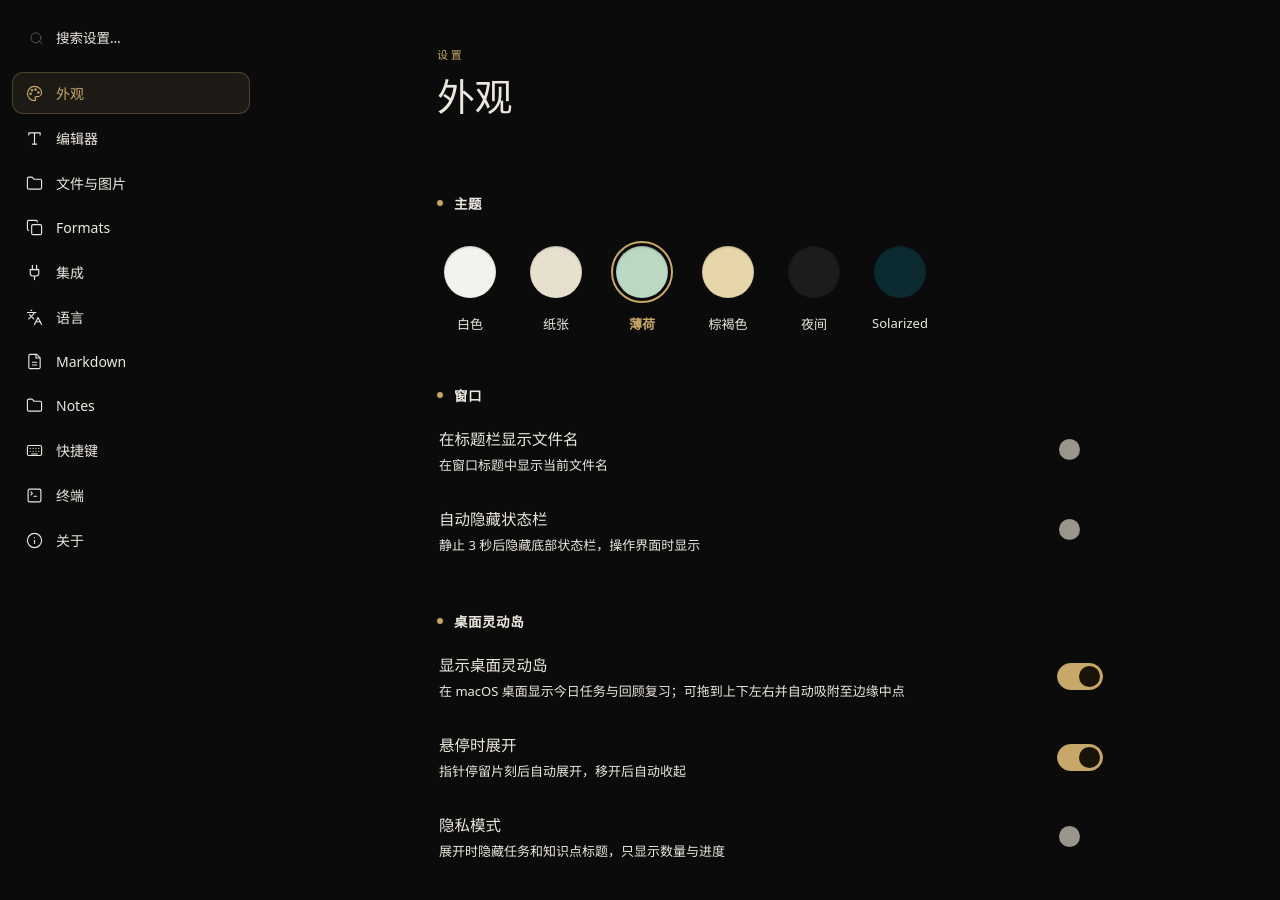
Test: AurisSettings window preferences › persists title, status bar, and focus dim controls
The width and height of the screenshot is (1280, 900).
Click the switch named "在标题栏显示文件名" at [1070, 450], box left=1059, top=439, right=1080, bottom=460
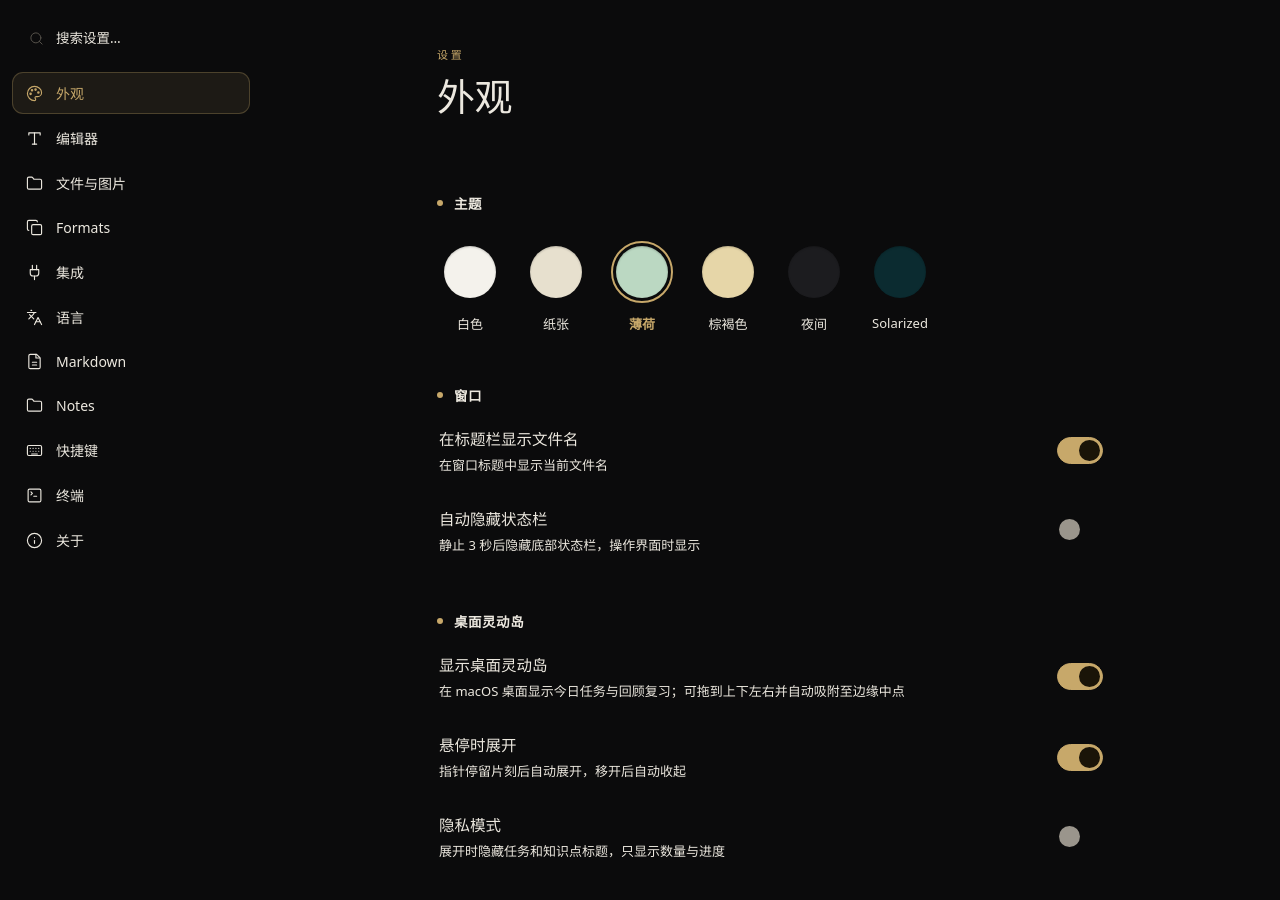
Click the switch named "自动隐藏状态栏" at [1070, 530], box left=1059, top=519, right=1080, bottom=540
(page scrolled)
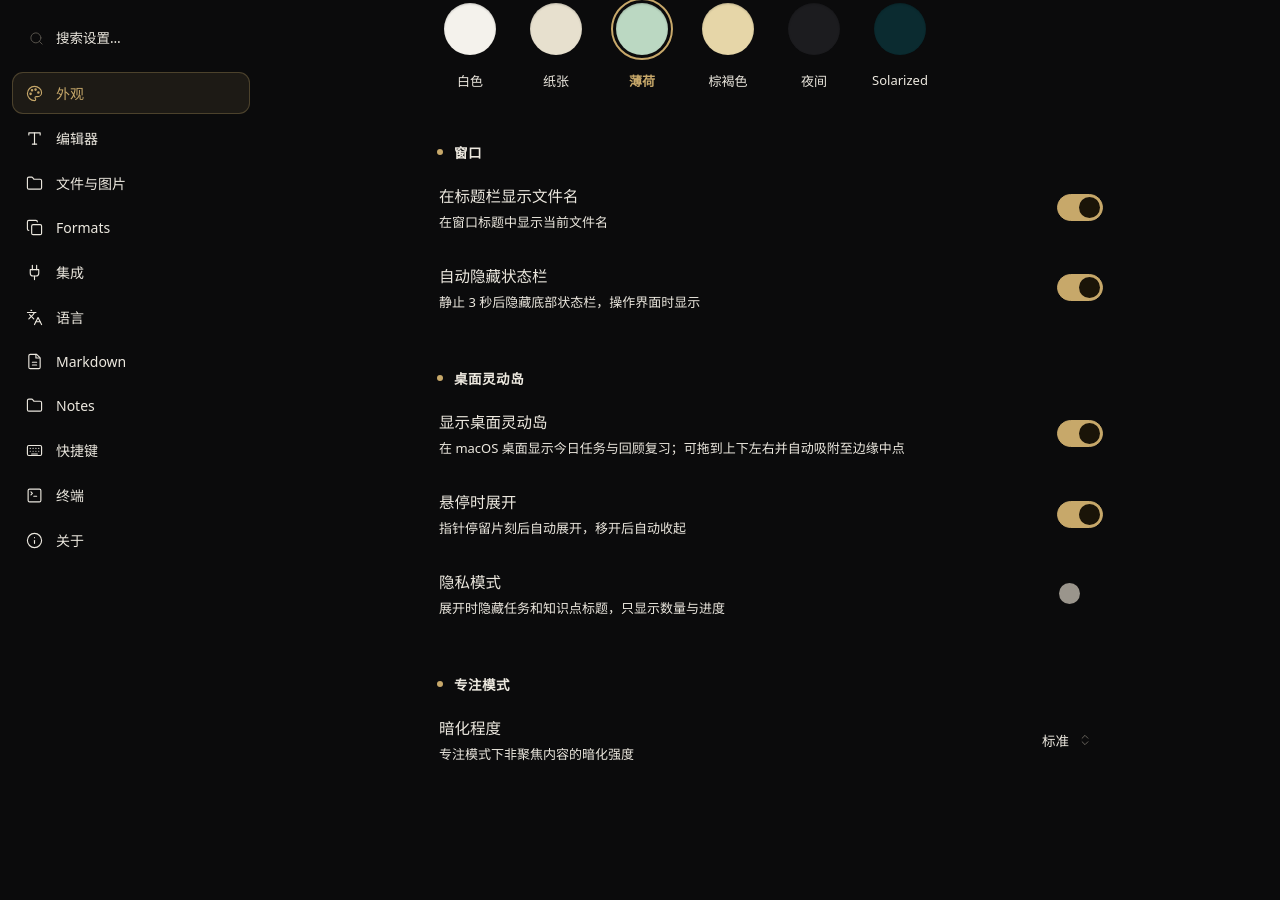
Click the button with aria-label "暗化程度：标准" at [1066, 740], box left=1028, top=723, right=1103, bottom=757
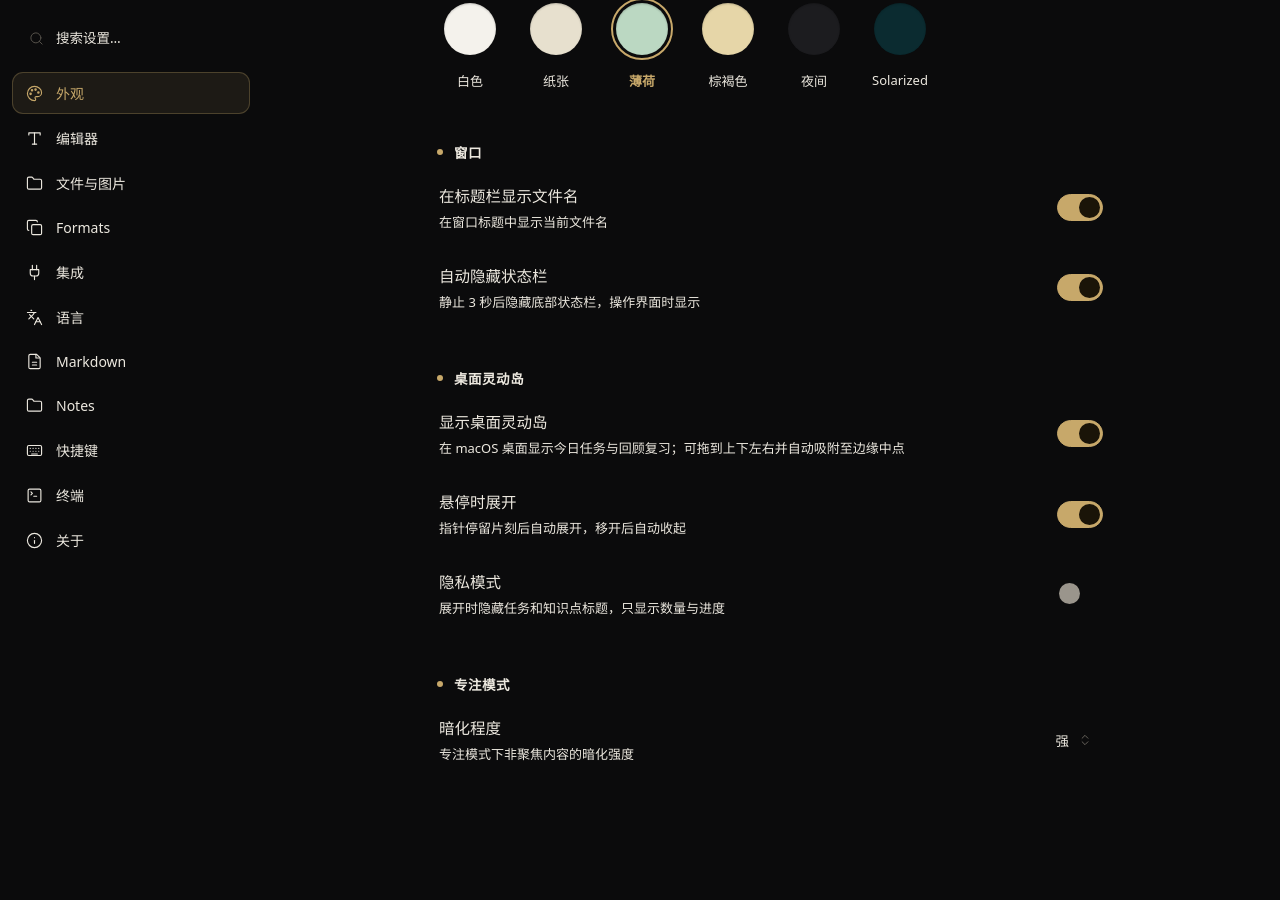
Click the button named "暗化程度：强" at [1072, 740], box left=1042, top=723, right=1103, bottom=757
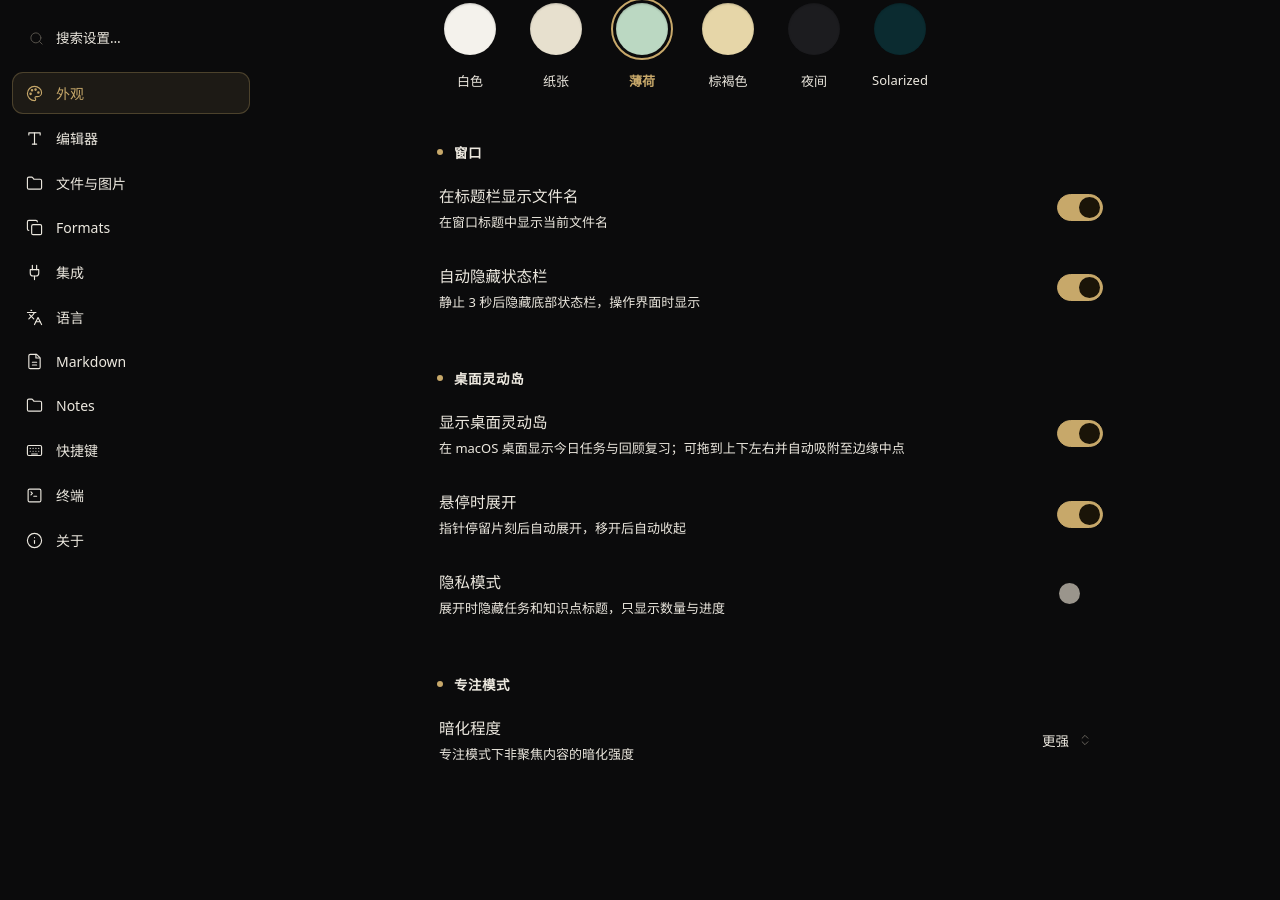
Expected: the button with aria-label "暗化程度：更强" is shown, left=1028, top=723, right=1103, bottom=757
